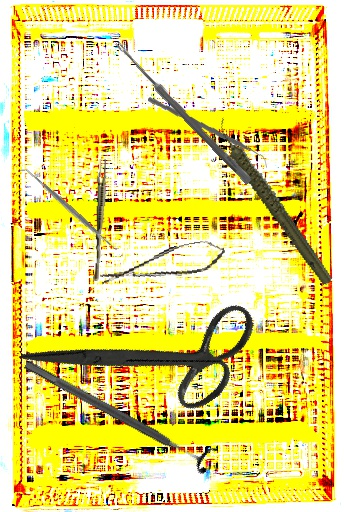Chopper: (147, 87, 268, 179)
Fixation Ring: (18, 349, 219, 477)
Handpiece: (214, 101, 336, 302)
Iris Scissors: (19, 235, 279, 477)
Micro Scissor: (97, 237, 228, 291)
Spatula Surgical: (18, 161, 122, 257)
Surgical Spoon: (113, 40, 253, 185)
Tissue Forceps: (92, 158, 108, 282)
